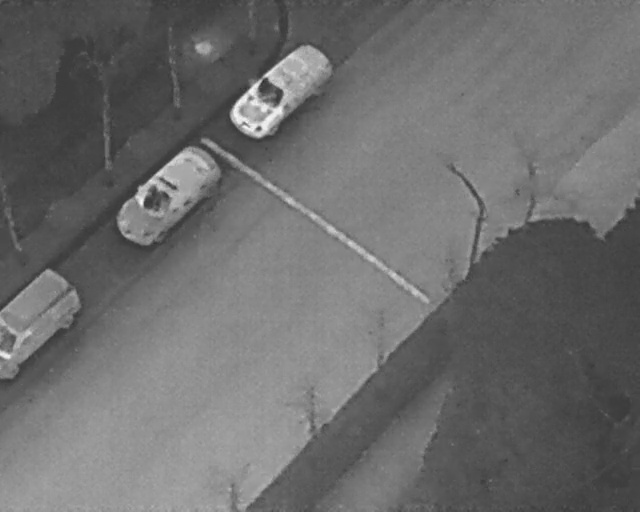Car: (107, 133, 226, 254), (222, 34, 339, 149), (0, 269, 77, 381)
